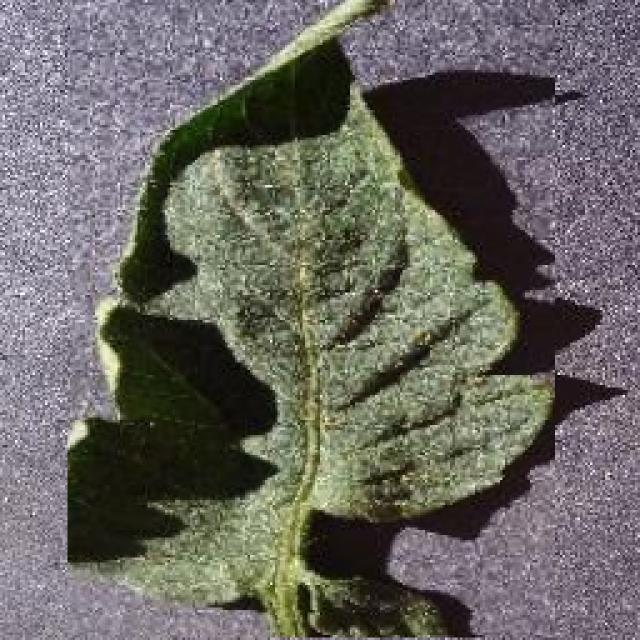Healthy: (67, 0, 555, 638)
